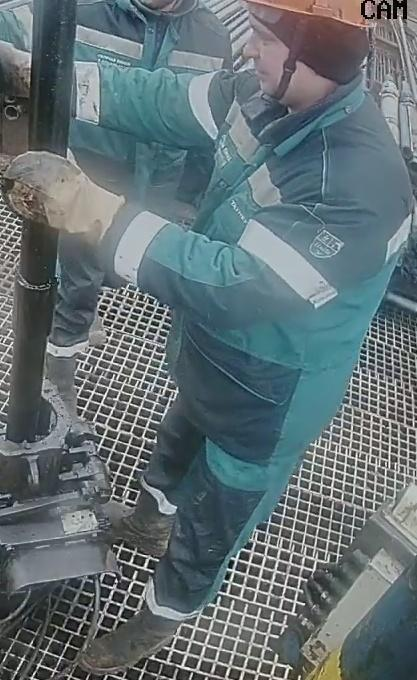gloves: (0, 149, 142, 265), (0, 38, 87, 116)
helmet: (243, 0, 375, 45)
vest: (166, 67, 414, 372), (71, 0, 217, 164)
